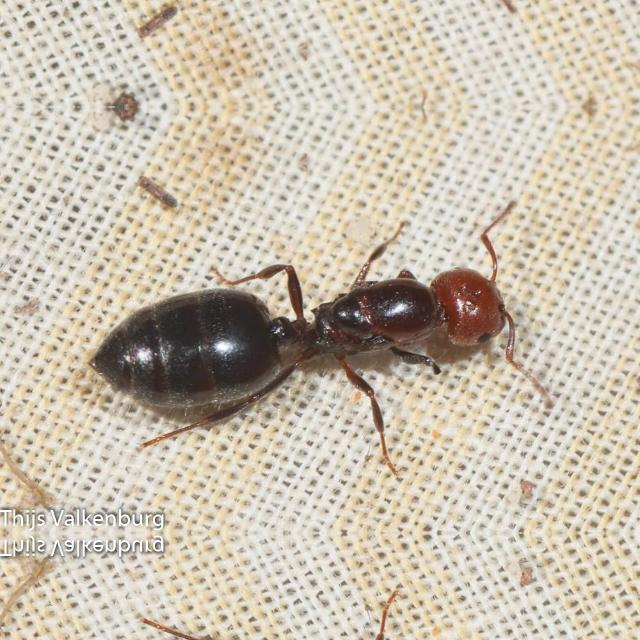Crematogaster: (83, 249, 509, 419)
